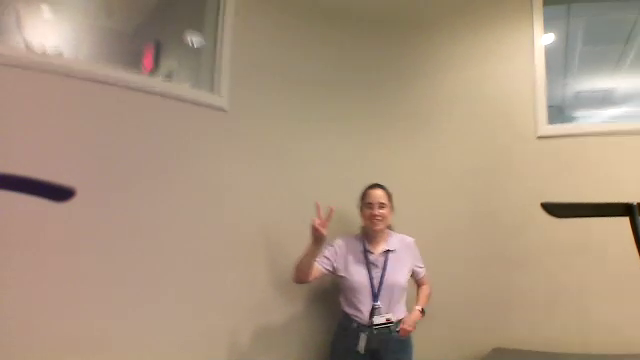peace: (309, 199, 337, 243)
